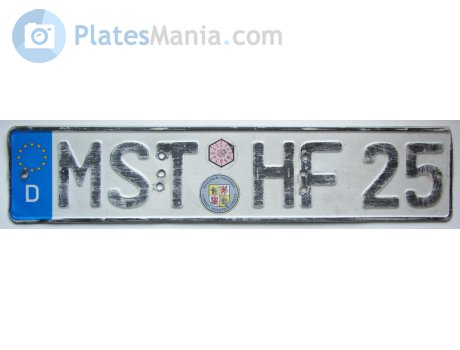License Plates: (54, 132, 450, 216)
